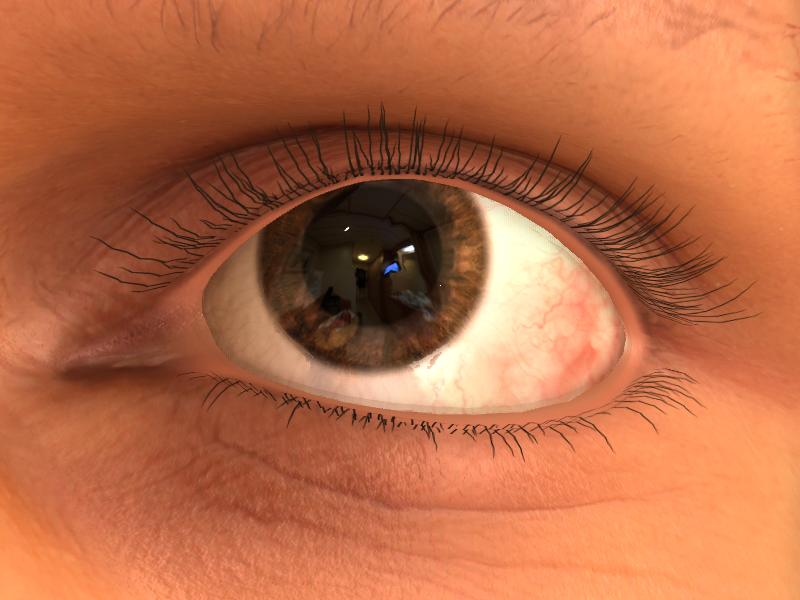eye: (256, 177, 491, 374)
